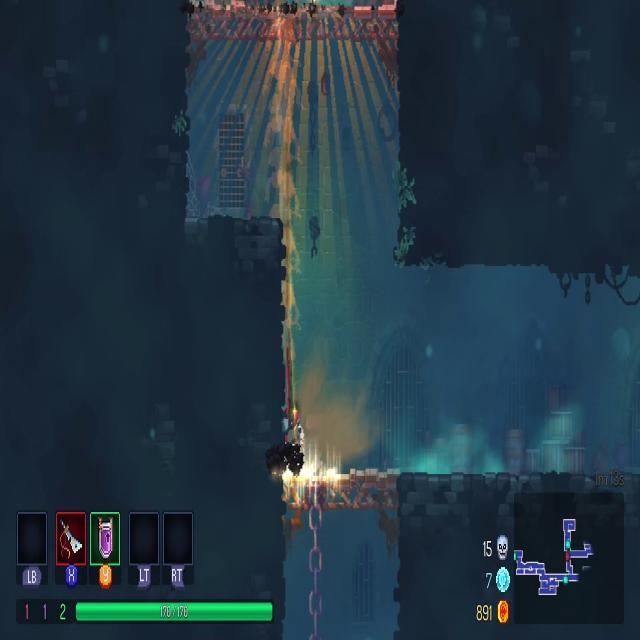agents: (280, 382, 308, 484)
wood_floor: (188, 1, 398, 46), (280, 470, 400, 515)
